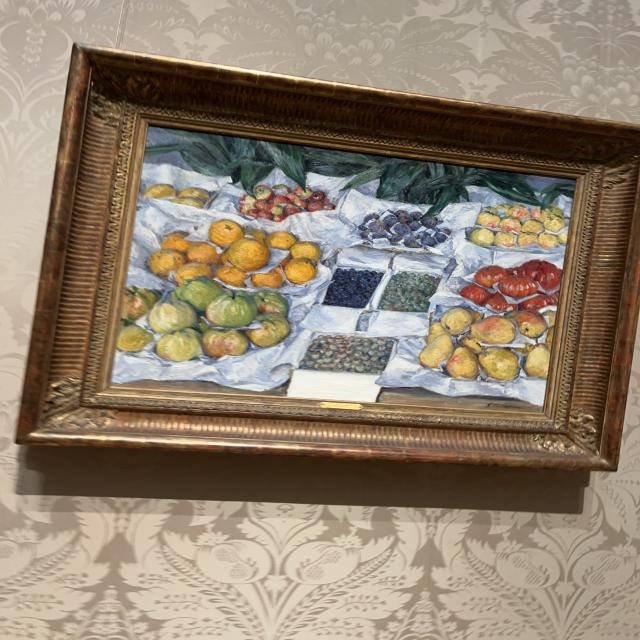fruits: (117, 129, 574, 411)
